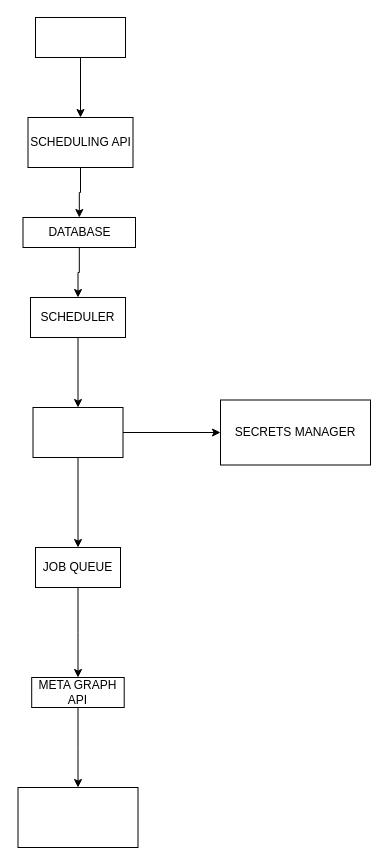
This 388x865 diagram has some shape labels left out. Each missing label, with the centre of its shape:
"EDGE FUNCTION" belongs at point (77, 432).
"INSTAGRAM PROFESSIONAL ACCOUNT" belongs at point (77, 817).
"USER" belongs at point (80, 37).
